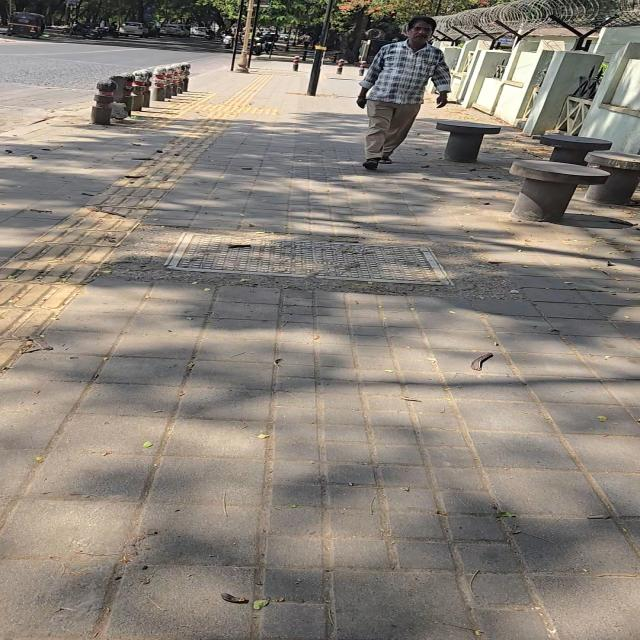obstacle: (357, 16, 450, 169), (510, 160, 609, 222), (586, 152, 639, 204), (437, 121, 501, 162), (307, 0, 334, 95), (540, 134, 612, 165), (235, 0, 254, 72), (91, 80, 116, 124), (231, 0, 244, 71), (248, 0, 260, 68), (110, 75, 127, 119), (132, 70, 146, 111), (151, 67, 166, 101), (123, 74, 133, 115), (110, 76, 125, 102), (143, 69, 152, 107), (165, 66, 173, 99), (172, 65, 179, 95), (184, 63, 191, 92), (177, 64, 183, 93), (303, 34, 312, 50), (336, 59, 345, 74), (359, 61, 366, 76), (293, 56, 299, 71), (332, 52, 339, 64), (303, 50, 308, 61)
vehicle: (166, 233, 452, 285)
